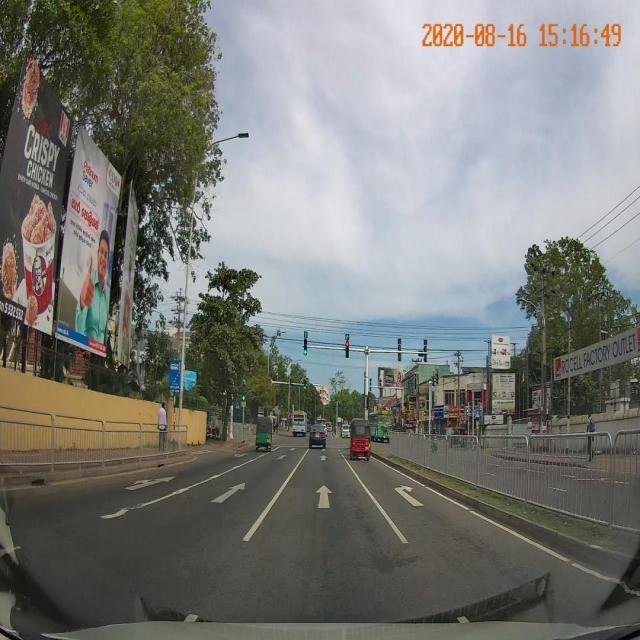Liniya 1: (98, 465, 239, 520), (240, 449, 310, 543), (345, 461, 412, 546), (469, 510, 574, 564), (570, 560, 625, 589), (424, 486, 472, 514)
Strelka vpered: (209, 482, 246, 504), (314, 484, 334, 509), (275, 454, 288, 460), (318, 455, 329, 461)
Strelka vpered - vlevo: (122, 475, 177, 491)
Strelka vpravo: (392, 485, 426, 508)
